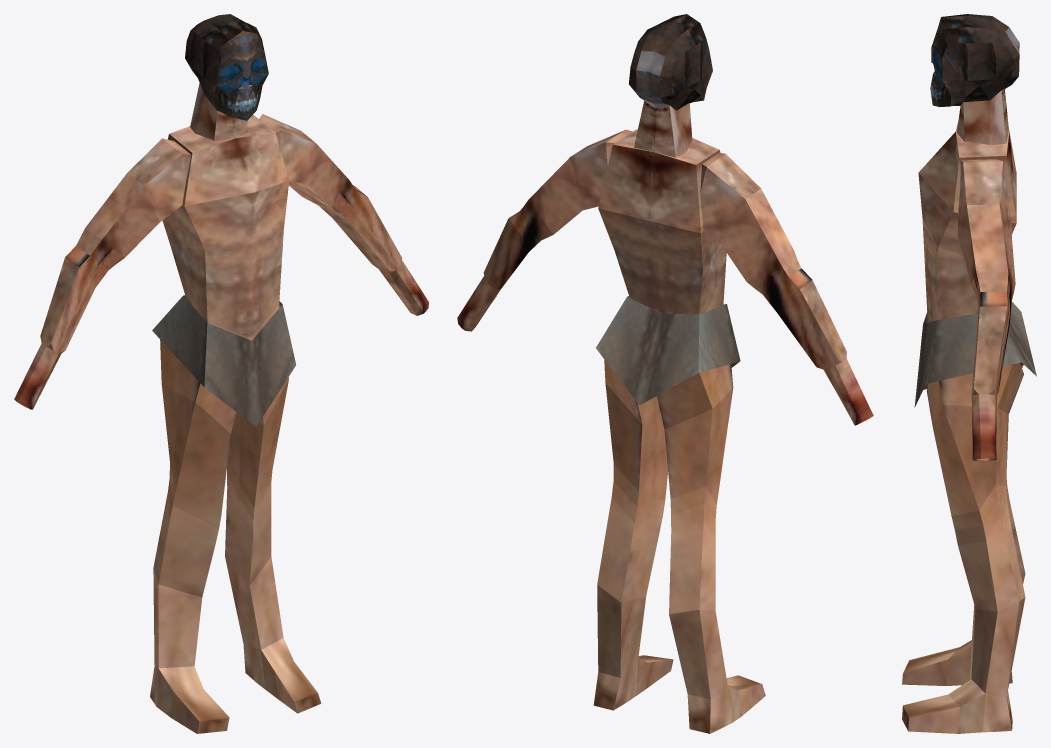
The model's file is MainEnemy.fbx.
3 views of the same model, side by side, from view 1: azimuth 30°, elevation 25°; view 2: azimuth 150°, elevation 25°; view 3: azimuth 270°, elevation 25° (orthographic).
Parts seen in each view (by area): view 1: Cube.001; view 2: Cube.001; view 3: Cube.001.
Boxes of the visible parts, bbox=[...] form: Cube.001: bbox=[14, 14, 428, 733]; Cube.001: bbox=[457, 14, 873, 733]; Cube.001: bbox=[902, 14, 1036, 733].
Size of the model in its own units: 143 by 226 by 40.16.
1 material, 1 textured.
